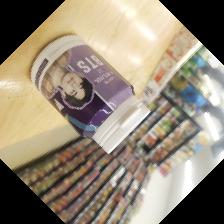Xylitol_BTS: (29, 34, 151, 155)
